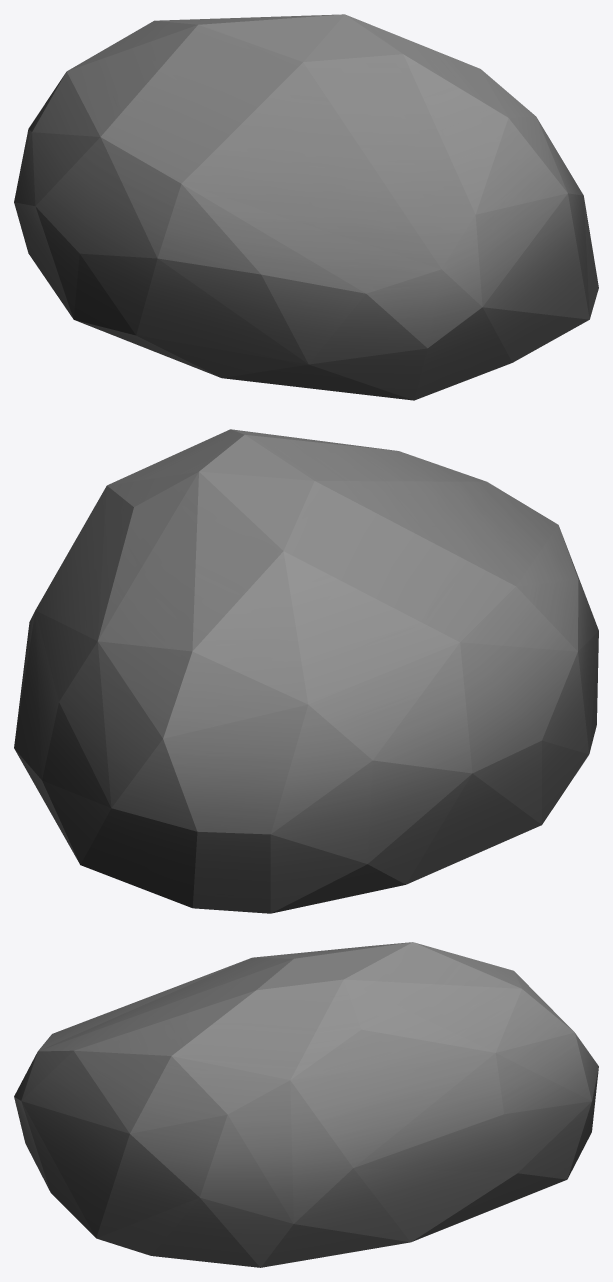
File: pack01_foliage_23.fbx
The picture shows the model from 3 angles, top to bottom: view 1: azimuth 30°, elevation 25°; view 2: azimuth 150°, elevation 25°; view 3: azimuth 270°, elevation 25°; orthographic projection. The views are drawn at different scales.
Visible parts, largest first — view 1: Stone_average_01; view 2: Stone_average_01; view 3: Stone_average_01.
Part boxes in pixels (x1,y1,x2,y2): Stone_average_01: (14, 14, 598, 400); Stone_average_01: (14, 429, 598, 913); Stone_average_01: (14, 942, 598, 1267).
Bounding box in the file's own units: 184 × 89.93 × 226.
1 material, 1 textured.
